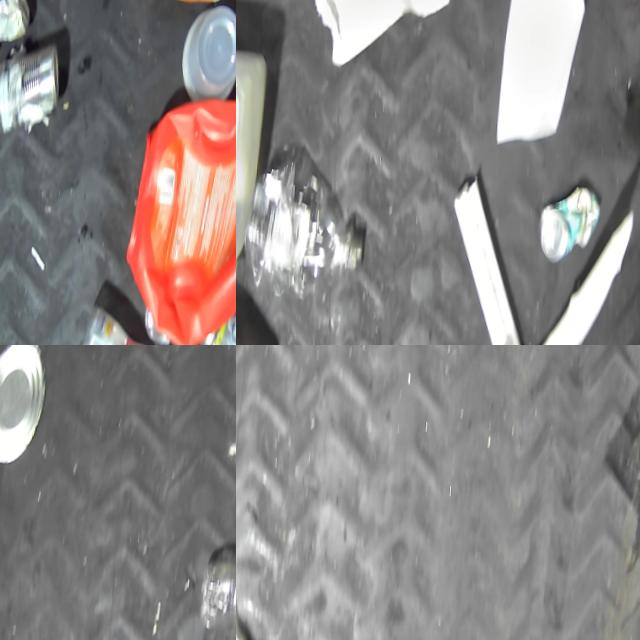can: (539, 169, 610, 273), (0, 40, 62, 144), (0, 0, 29, 80)
milk_jug: (236, 34, 271, 295)
non_white_jug: (129, 101, 236, 345)
plastic_bottle: (243, 145, 381, 301), (81, 297, 187, 345), (205, 548, 236, 640)
